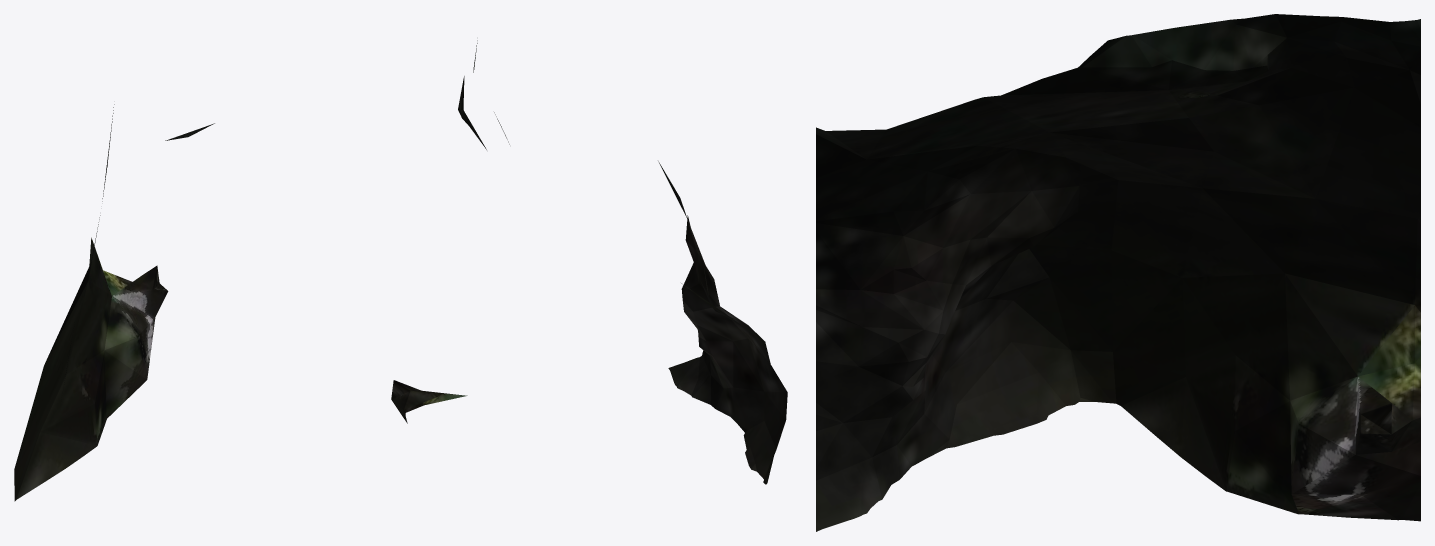
3 views of the same model, side by side, from view 1: azimuth 30°, elevation 25°; view 2: azimuth 150°, elevation 25°; view 3: azimuth 270°, elevation 25° (orthographic). The views are drawn at different scales.
Bounding box in the file's own units: 0.626 × 0.8374 × 0.8373.
3 materials, 3 textured.
